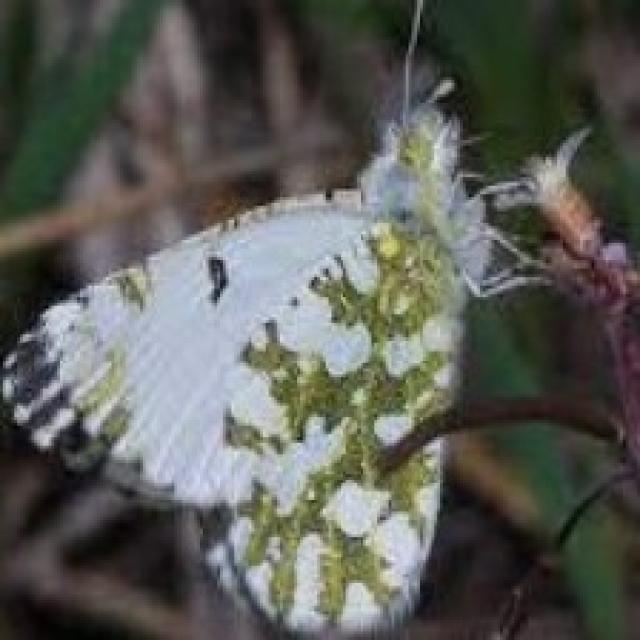butterfly: (0, 0, 591, 637)
